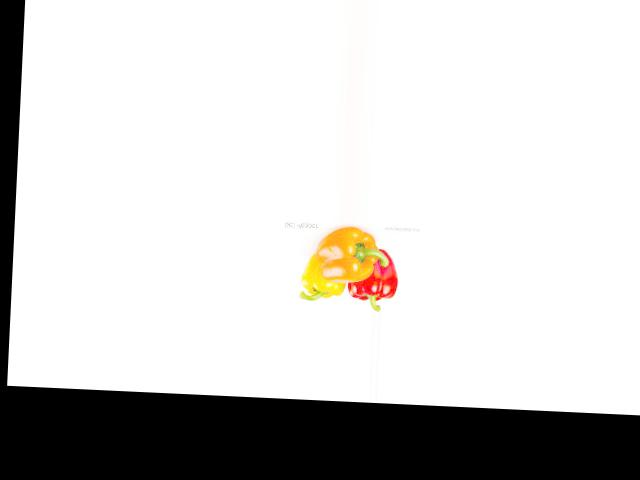bell_pepper: (296, 250, 349, 305)
